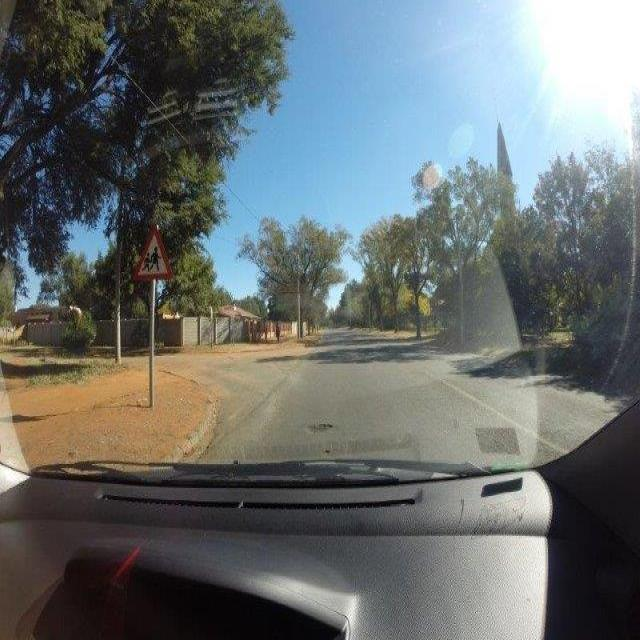lubang: (306, 420, 336, 434)
